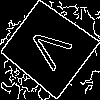V: (24, 23, 81, 78)
